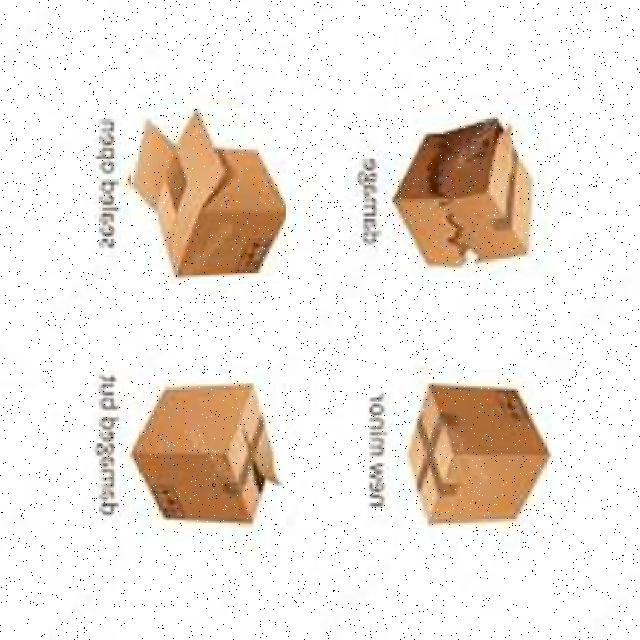defect: (131, 108, 286, 284), (389, 117, 538, 274), (132, 383, 286, 526)
normal: (394, 382, 552, 528)
